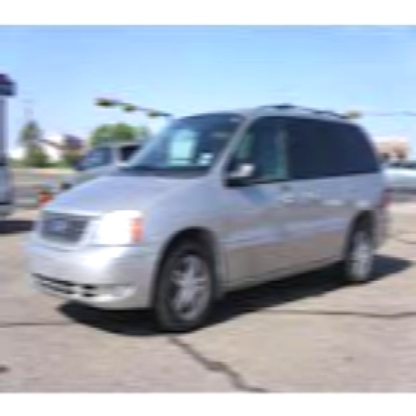Vehicle: (29, 102, 390, 324)
